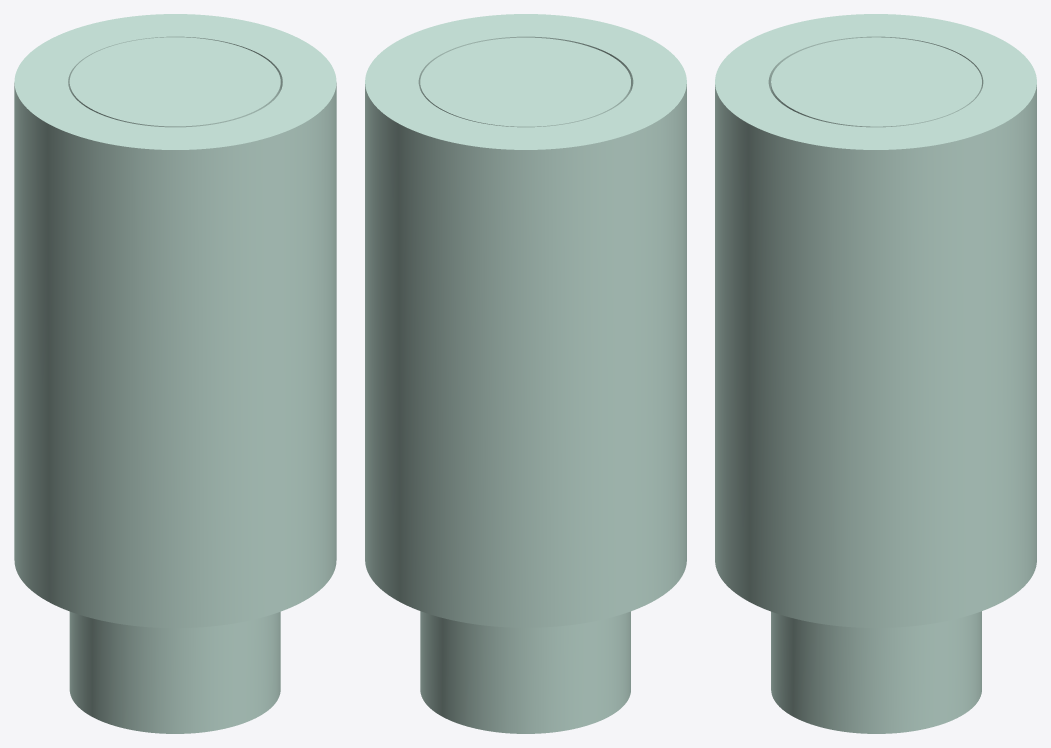
3 renders of one model, left to right at view 1: azimuth 30°, elevation 25°; view 2: azimuth 150°, elevation 25°; view 3: azimuth 270°, elevation 25°, orthographic.
Visible parts, largest first — view 1: Renderer Node; view 2: Renderer Node; view 3: Renderer Node.
Part boxes in pixels (x1,y1,x2,y2): Renderer Node: (14, 14, 336, 733); Renderer Node: (365, 14, 686, 733); Renderer Node: (715, 14, 1036, 733).
Size of the model in its own units: 0.4578 by 0.9531 by 0.4579.
